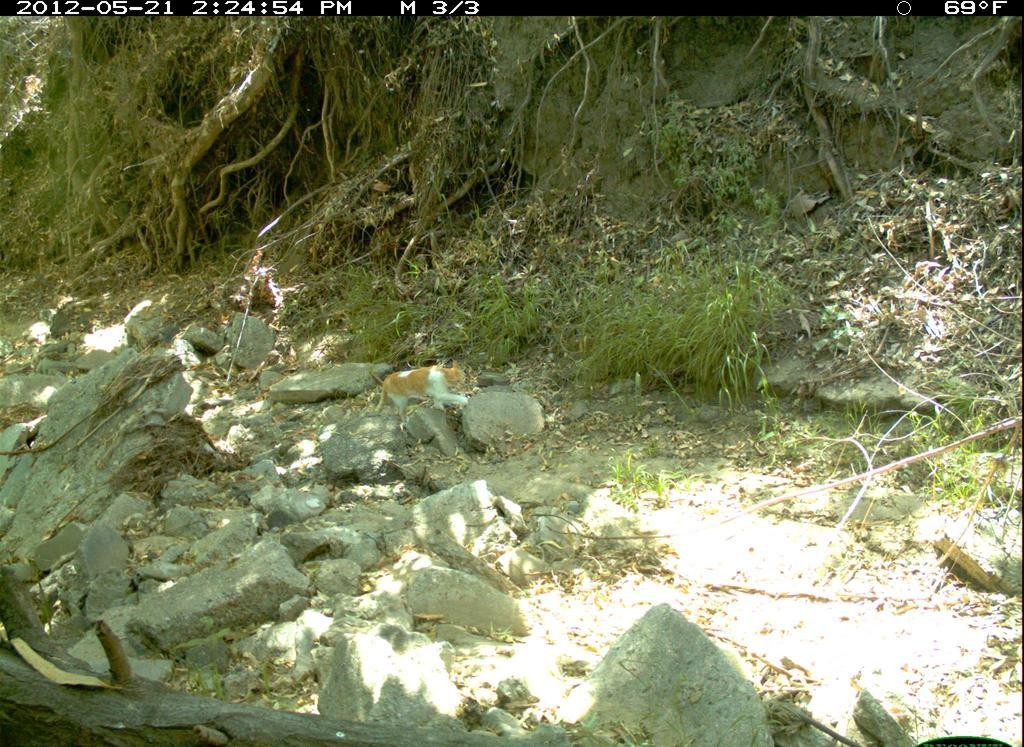cat: (372, 358, 484, 432)
